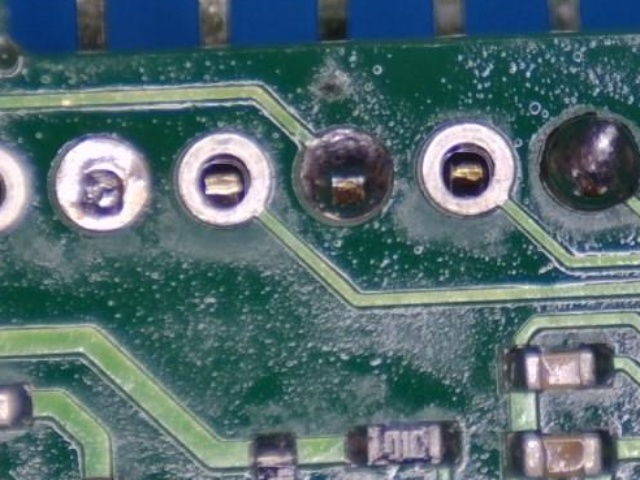pcb_defect: (541, 112, 640, 209), (56, 138, 146, 230)
